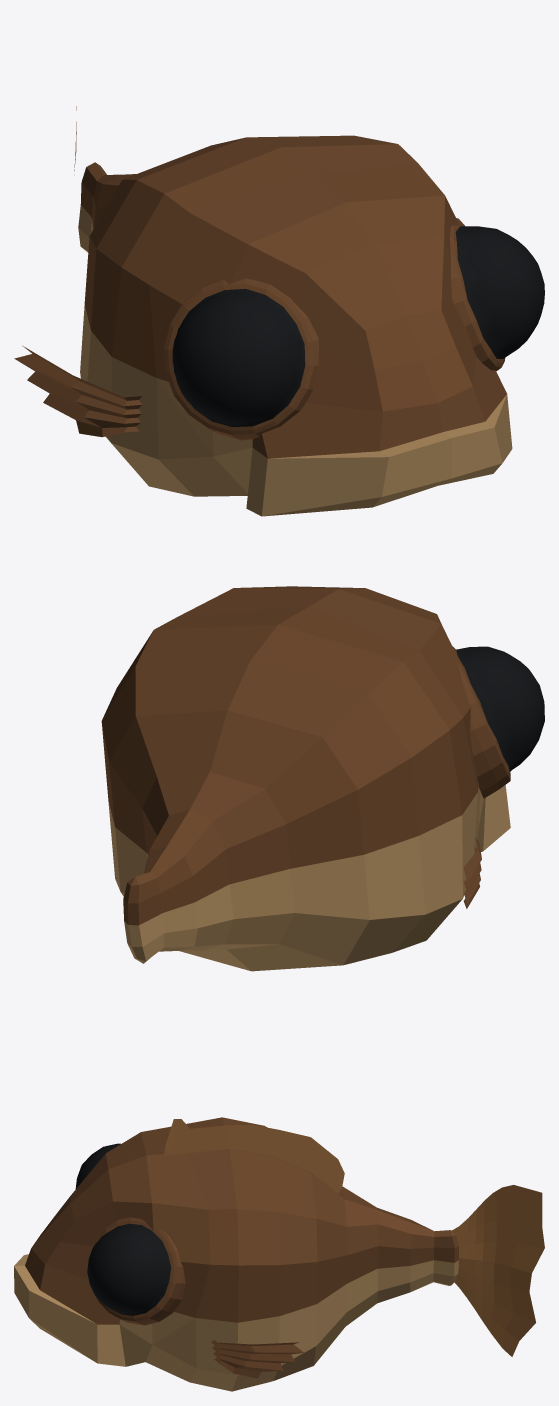
The model's file is cc0-snapper-lod0.glb.
The picture shows the model from 3 angles, top to bottom: view 1: azimuth 30°, elevation 25°; view 2: azimuth 150°, elevation 25°; view 3: azimuth 270°, elevation 25°; orthographic projection. The views are drawn at different scales.
Parts seen in each view (by area): view 1: part_0; view 2: part_0; view 3: part_0.
Part boxes in pixels (x1,y1,x2,y2): part_0: [14, 106, 544, 516]; part_0: [101, 586, 544, 971]; part_0: [14, 1117, 544, 1391].
Bounding box in the file's own units: 3.16 × 2.69 × 5.18.
